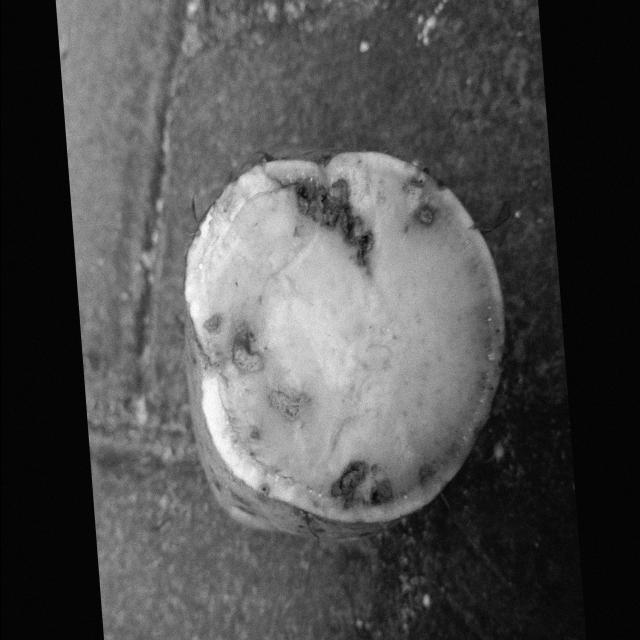Sick Sweet Potato_Tuber Rot: (182, 145, 509, 542)
